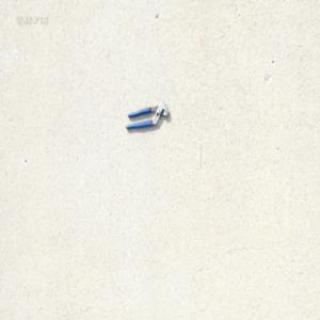Pliertrack_idkeyframe: (124, 101, 169, 130)
